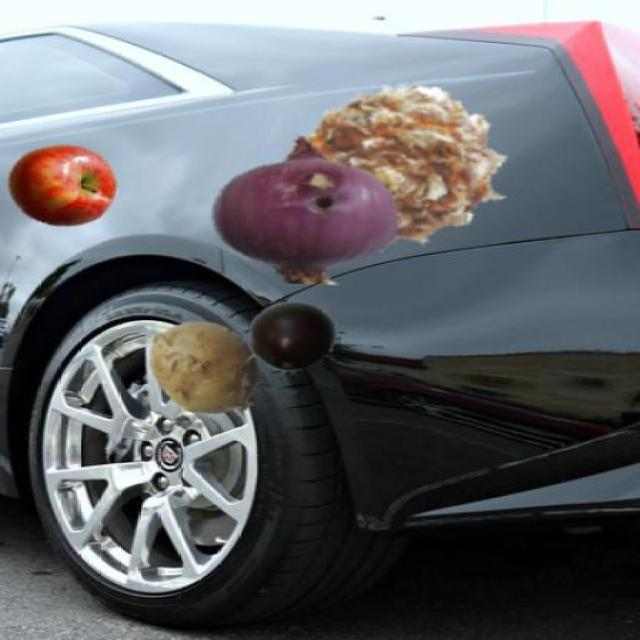Apple: (6, 143, 119, 228)
